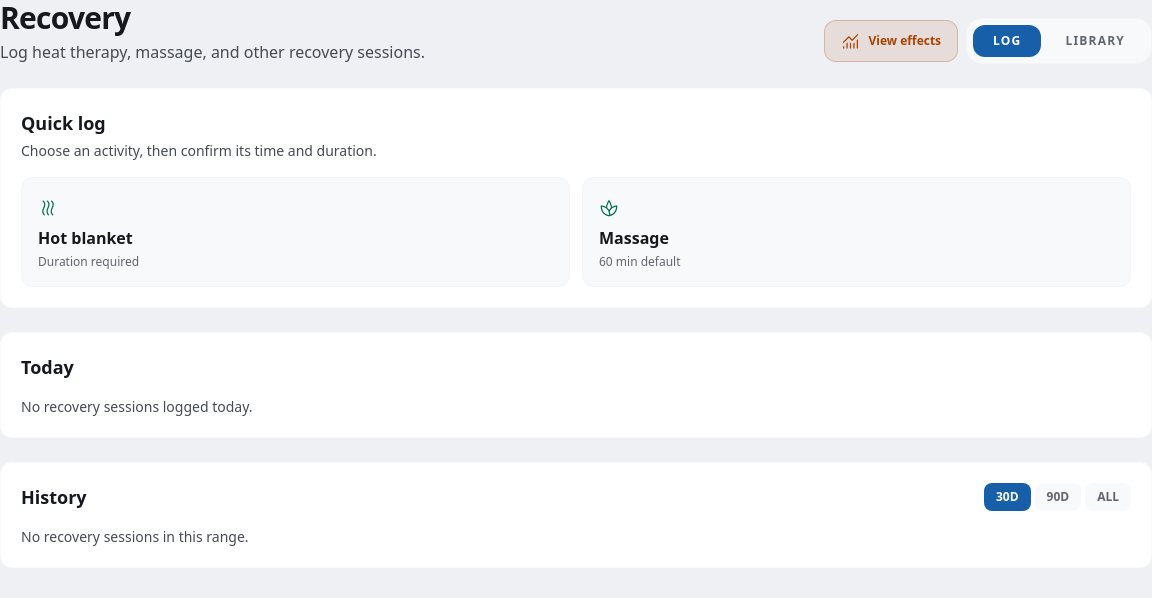
Test case: Recovery page › validates duration before sending a request
The width and height of the screenshot is (1152, 598).
Click the button with aria-label "quick log hot blanket". click: (85, 238)
box: [21,177,570,287]
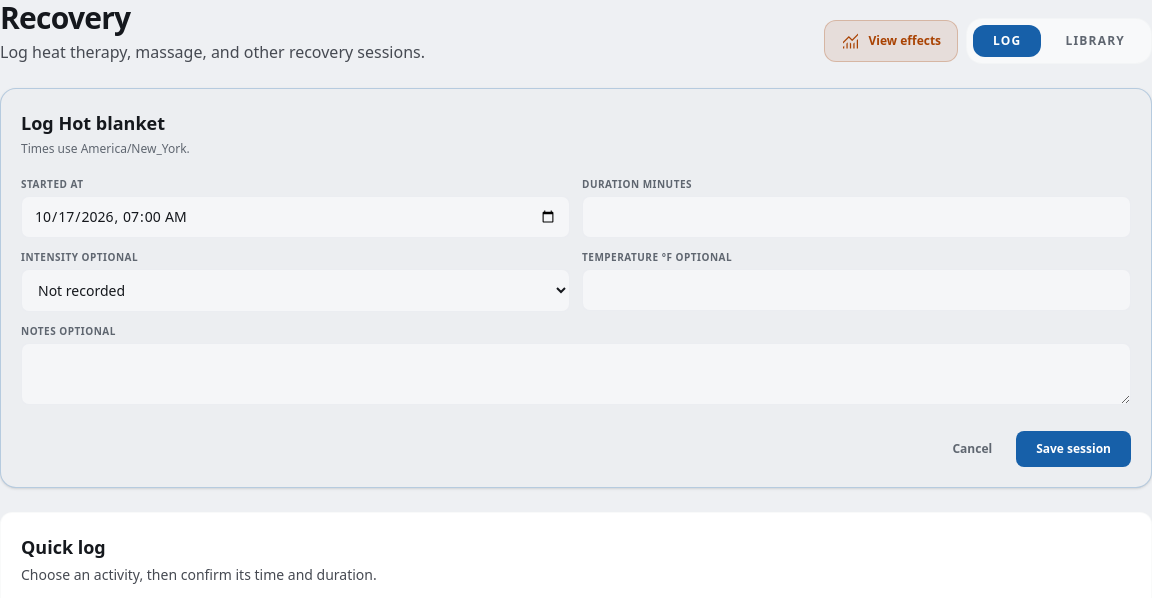
Click the button "Save session". click: (1074, 449)
box: [1016,431,1131,467]
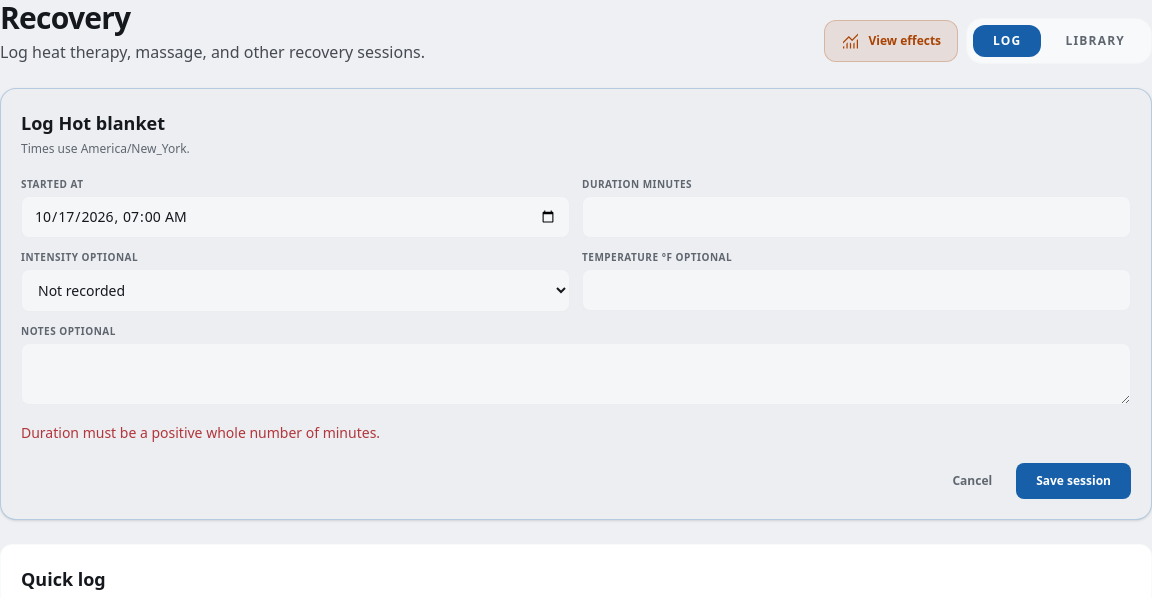
Check: the message shows "Duration must be", box [21,423,380,442]
